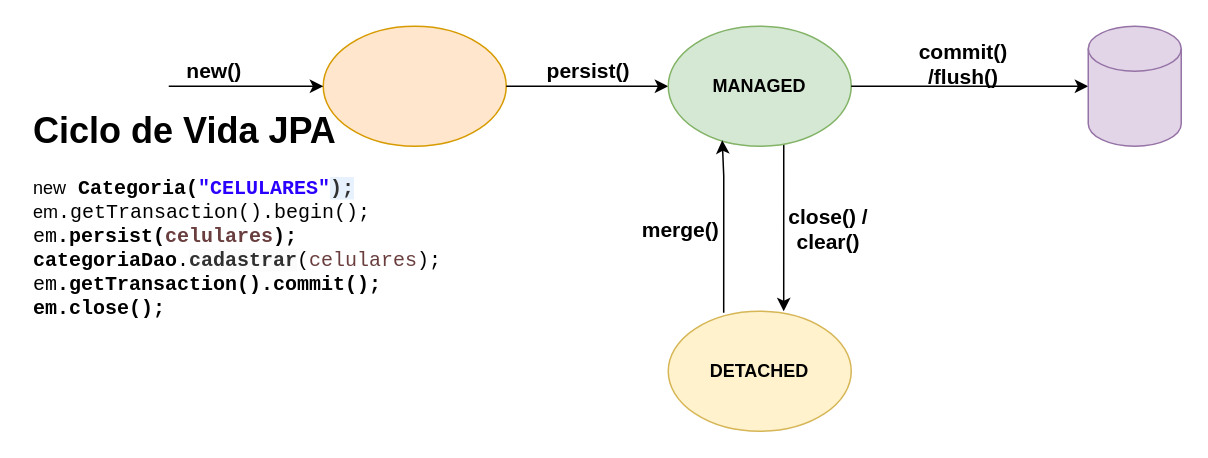
The diagram is 1208 pixels wide and 458 high, and some of its shapes have lost their labels. The centre of each missing label's shape, as x and y in pixels:
BD: (1134,85)
TRANSIENT: (414,85)
